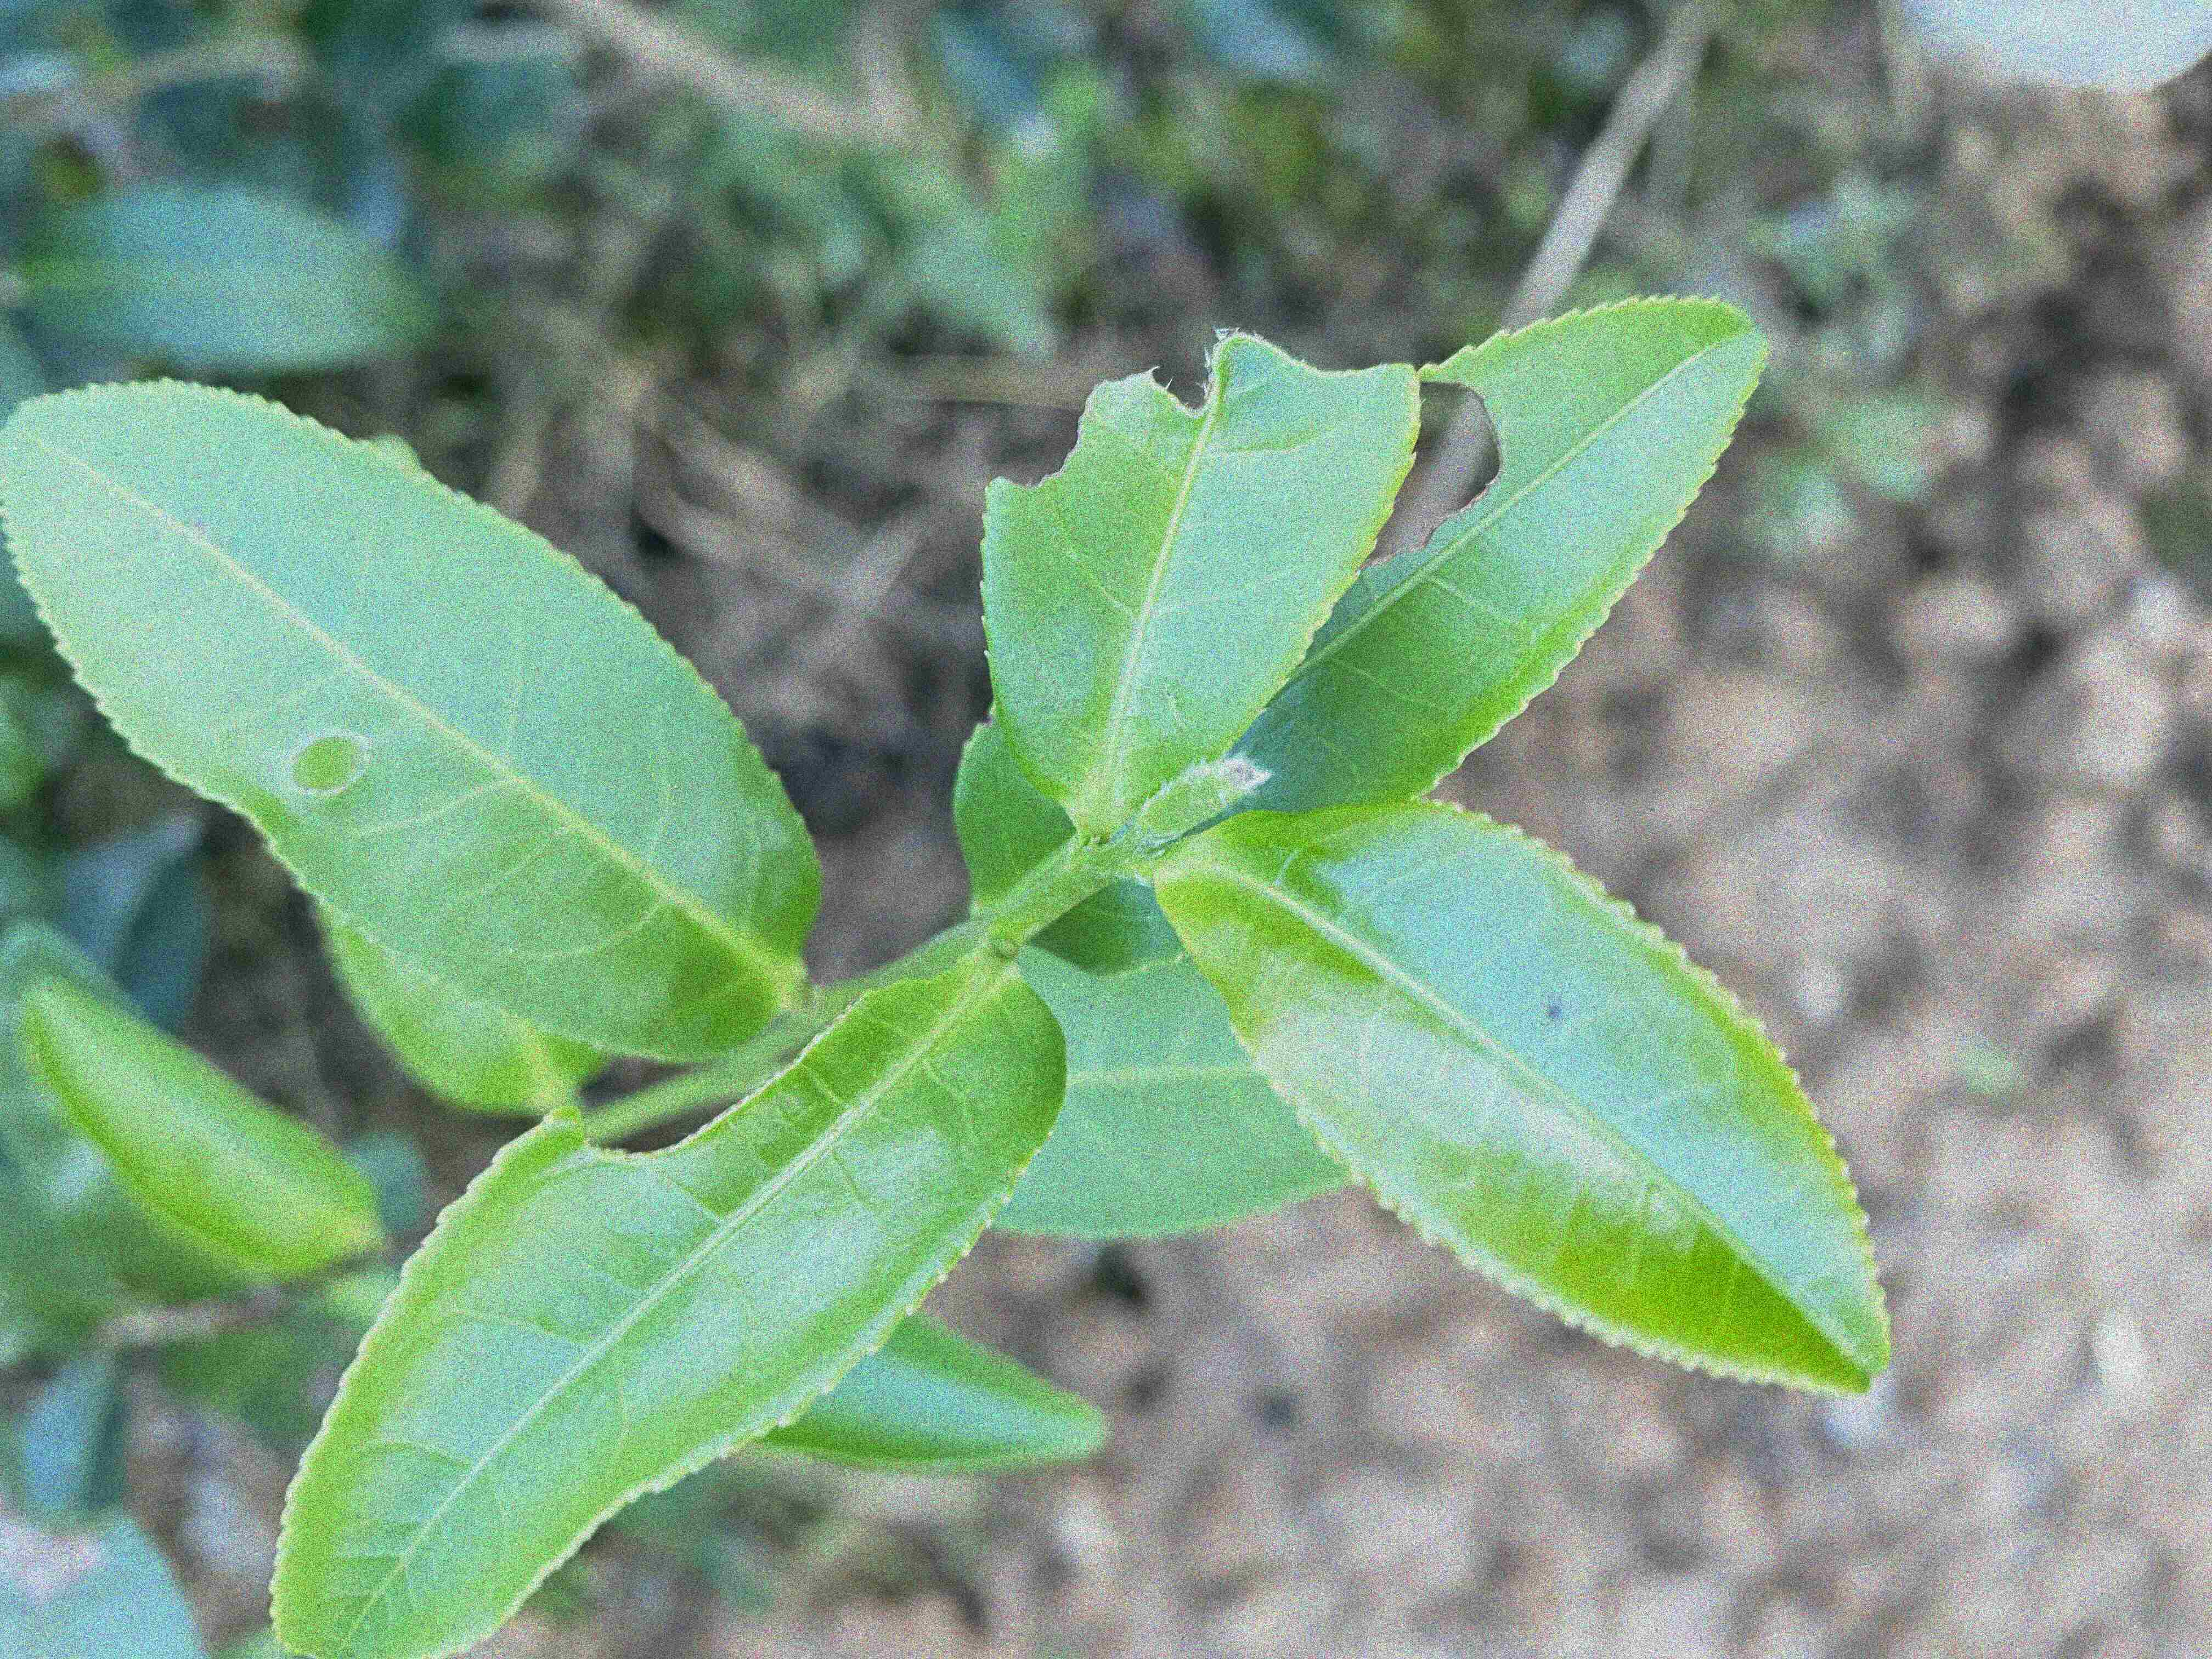chihuo_high: (977, 321, 1425, 826)
chihuo_low: (265, 929, 1066, 1656), (5, 371, 824, 1063)
healthy: (1151, 795, 1895, 1396)
